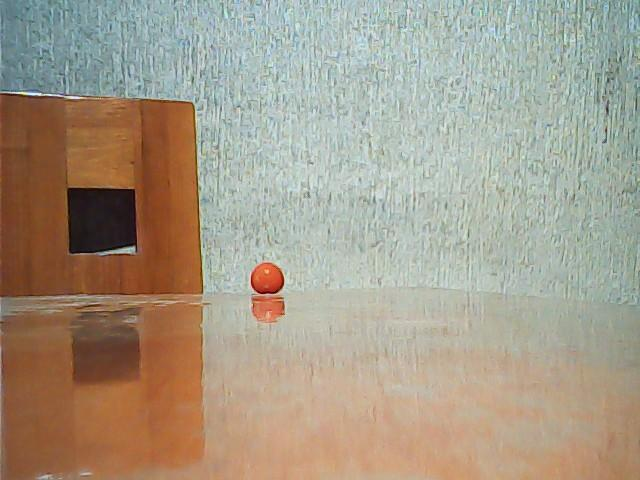maduro: (250, 263, 284, 295)
